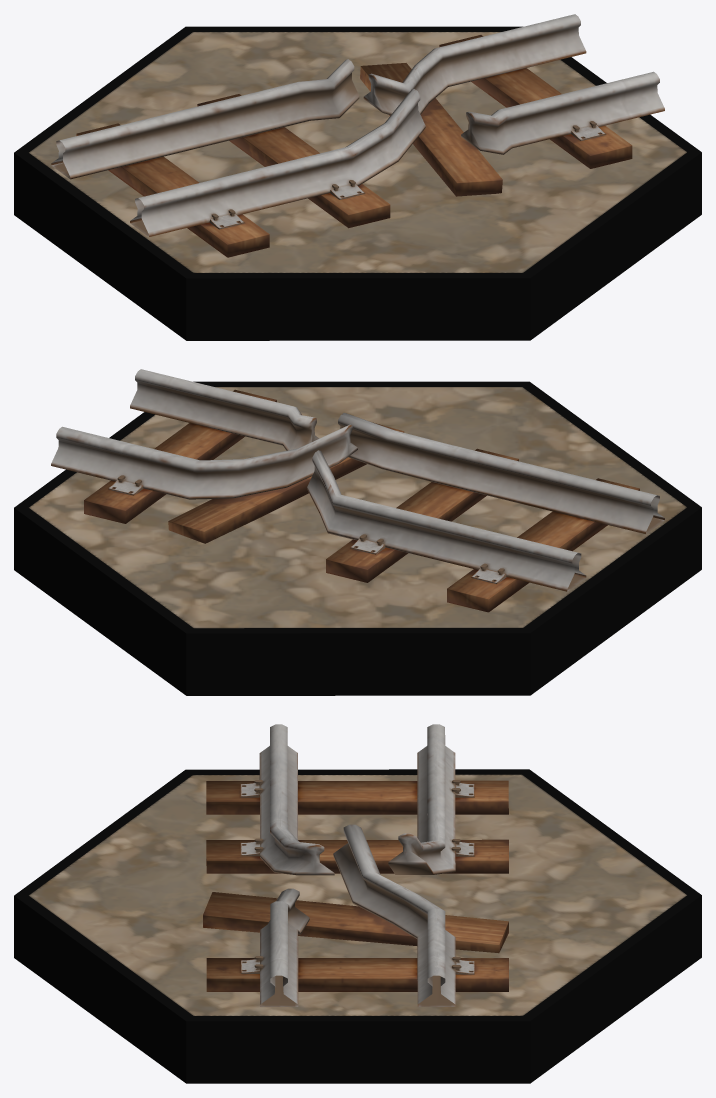
The model's file is trilho_quebrado.fbx.
3 renders of one model, top to bottom at view 1: azimuth 30°, elevation 25°; view 2: azimuth 150°, elevation 25°; view 3: azimuth 270°, elevation 25°, orthographic.
Visible parts, largest first — view 1: trilho_quebrado; view 2: trilho_quebrado; view 3: trilho_quebrado.
Boxes of the visible parts, bbox=[...] form: trilho_quebrado: bbox=[14, 14, 701, 340]; trilho_quebrado: bbox=[14, 369, 701, 695]; trilho_quebrado: bbox=[14, 724, 701, 1083].
Bounding box in the file's own units: 173 × 44.62 × 200.
